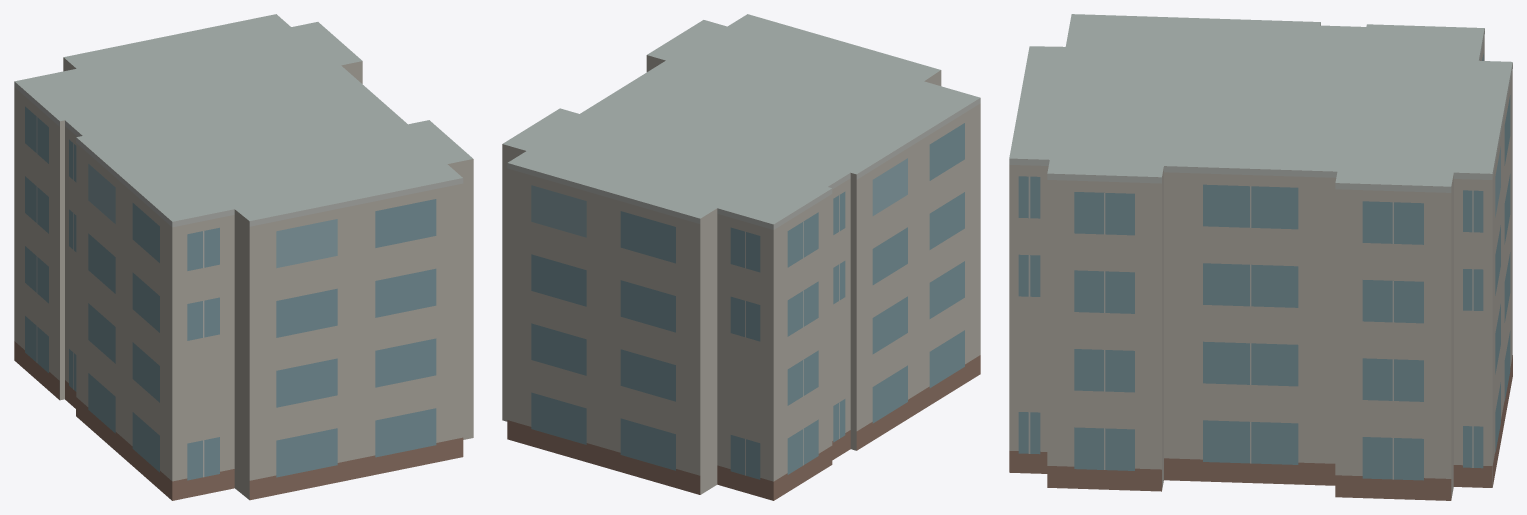
The model's file is survey-upis-32841648.glb.
The picture shows the model from 3 angles, left to right: view 1: azimuth 30°, elevation 25°; view 2: azimuth 150°, elevation 25°; view 3: azimuth 270°, elevation 25°; orthographic projection. The views are drawn at different scales.
Parts seen in each view (by area): view 1: survey-upis-32841648.tmp; view 2: survey-upis-32841648.tmp; view 3: survey-upis-32841648.tmp.
Boxes of the visible parts, x1,y1,x2,y2 form: survey-upis-32841648.tmp: (14, 14, 473, 500); survey-upis-32841648.tmp: (502, 14, 980, 500); survey-upis-32841648.tmp: (1009, 14, 1512, 500).
Bounding box in the file's own units: 14.39 × 12.2 × 17.74.
